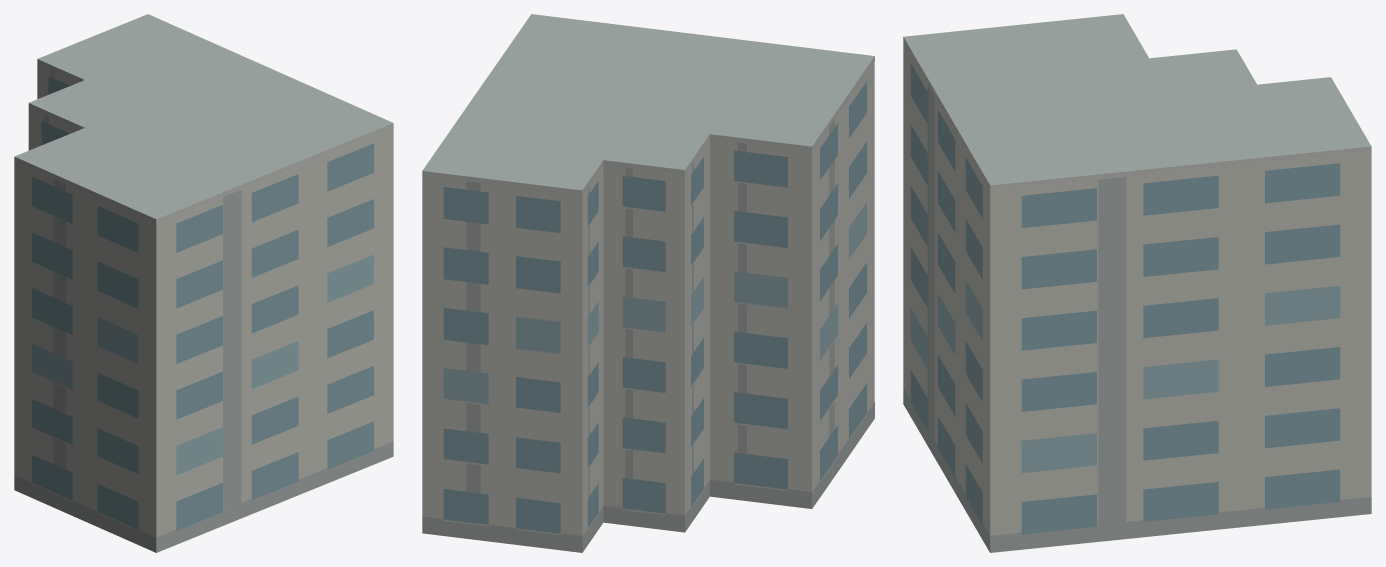
Rendered from survey-upis-32657226.glb.
3 views of the same model, side by side, from view 1: azimuth 30°, elevation 25°; view 2: azimuth 150°, elevation 25°; view 3: azimuth 270°, elevation 25° (orthographic). The views are drawn at different scales.
Parts seen in each view (by area): view 1: survey-upis-32657226.tmp; view 2: survey-upis-32657226.tmp; view 3: survey-upis-32657226.tmp.
Boxes of the visible parts, x1,y1,x2,y2 form: survey-upis-32657226.tmp: (14, 14, 393, 552); survey-upis-32657226.tmp: (422, 14, 874, 552); survey-upis-32657226.tmp: (903, 14, 1371, 552).
Bounding box in the file's own units: 16.91 × 16.9 × 19.52.
